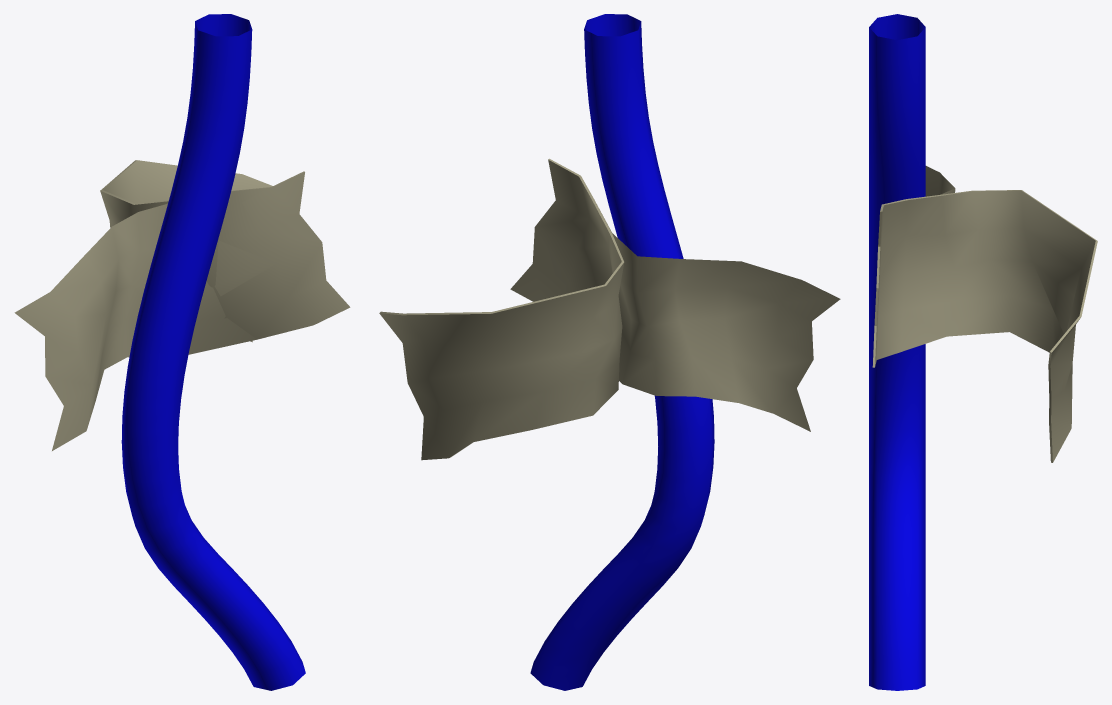
The model's file is Wire2Unit.fbx.
3 renders of one model, left to right at view 1: azimuth 30°, elevation 25°; view 2: azimuth 150°, elevation 25°; view 3: azimuth 270°, elevation 25°, orthographic. The views are drawn at different scales.
Visible parts, largest first — view 1: Wire2, TapeStuck2, TapeUnStuck2; view 2: TapeUnStuck2, Wire2, TapeStuck2; view 3: TapeUnStuck2, Wire2, TapeStuck2.
Part boxes in pixels (bbox=[...]): Wire2: bbox=[121, 14, 305, 690]; TapeStuck2: bbox=[14, 172, 350, 450]; TapeUnStuck2: bbox=[100, 160, 348, 342]; TapeUnStuck2: bbox=[379, 158, 624, 460]; Wire2: bbox=[530, 14, 714, 690]; TapeStuck2: bbox=[599, 209, 840, 431]; TapeUnStuck2: bbox=[872, 190, 1097, 462]; Wire2: bbox=[869, 14, 925, 690]; TapeStuck2: bbox=[925, 166, 955, 196].
Size of the model in its own units: 0.1796 by 0.3096 by 0.1002.
